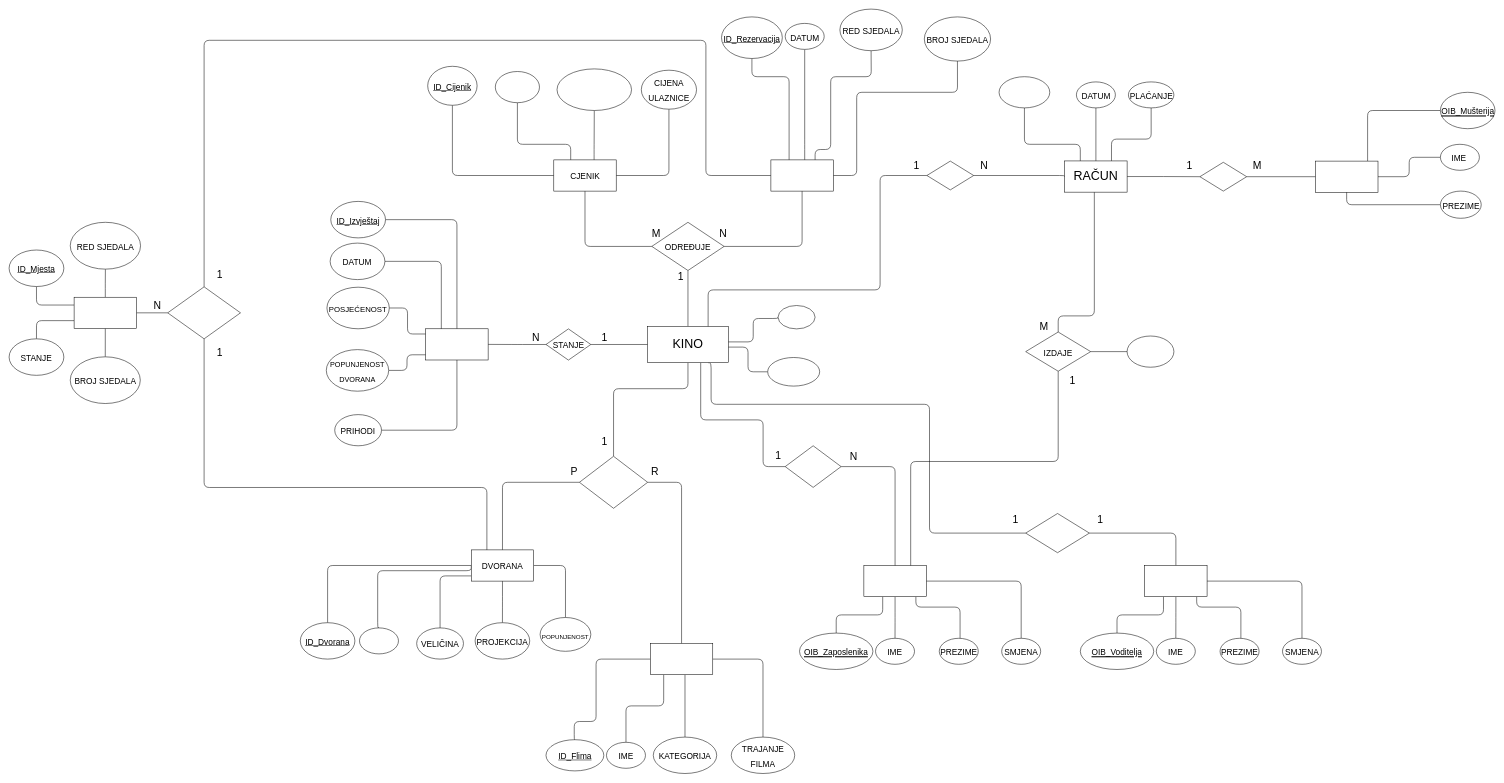
The diagram is 1504 pixels wide and 783 high, and some of its shapes have lost their labels. Here are the shapes that lost their labels. From the top down, the centre of each, then its label:
At [517,87]: "DATU M".
At [594,89]: "VRSTA PROJEKCIJE".
At [1024,92]: "ID_Račun".
At [801,175]: "REZRVACIJA".
At [950,175]: "SADRŽI".
At [1223,176]: "TRAŽI".
At [1346,176]: "MUŠTERIJA".
At [105,312]: "MJESTO".
At [203,312]: "JE_SLOBODNO".
At [796,317]: "ID_Kina".
At [456,344]: "IZVJEŠTAJ".
At [1150,351]: "količina".
At [793,371]: "LOKACIJA".
At [613,482]: "IMA".
At [813,466]: "RADI_ZA".
At [1057,533]: "VODI".
At [894,581]: "ZAPOSLENICI".
At [1175,581]: "VODITELJ".
At [378,640]: "TIP".
At [681,659]: "RASPORED FILMOVA".
